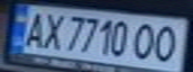0: (109, 18, 133, 57)
1: (96, 16, 115, 55)
7: (78, 15, 100, 54), (63, 12, 84, 52)
A: (18, 9, 51, 48)
O: (148, 22, 187, 64), (127, 20, 160, 61)
X: (36, 10, 66, 51)
